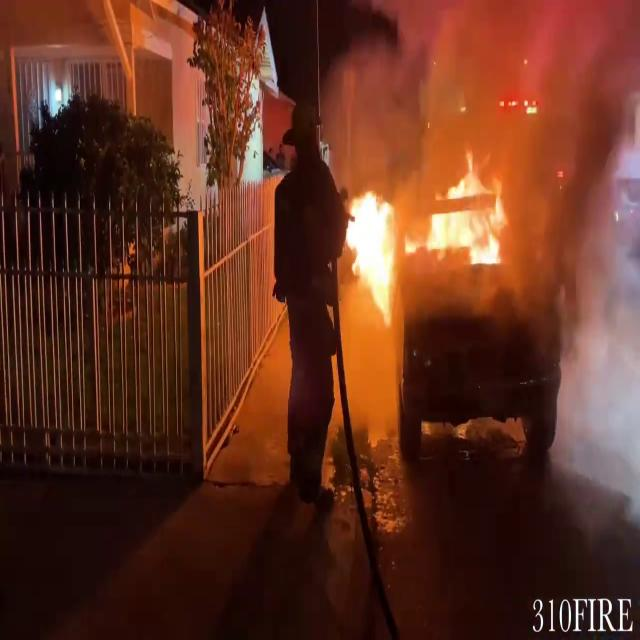Fire: (402, 146, 514, 283), (341, 181, 398, 324)
Smoke: (328, 0, 638, 243)
